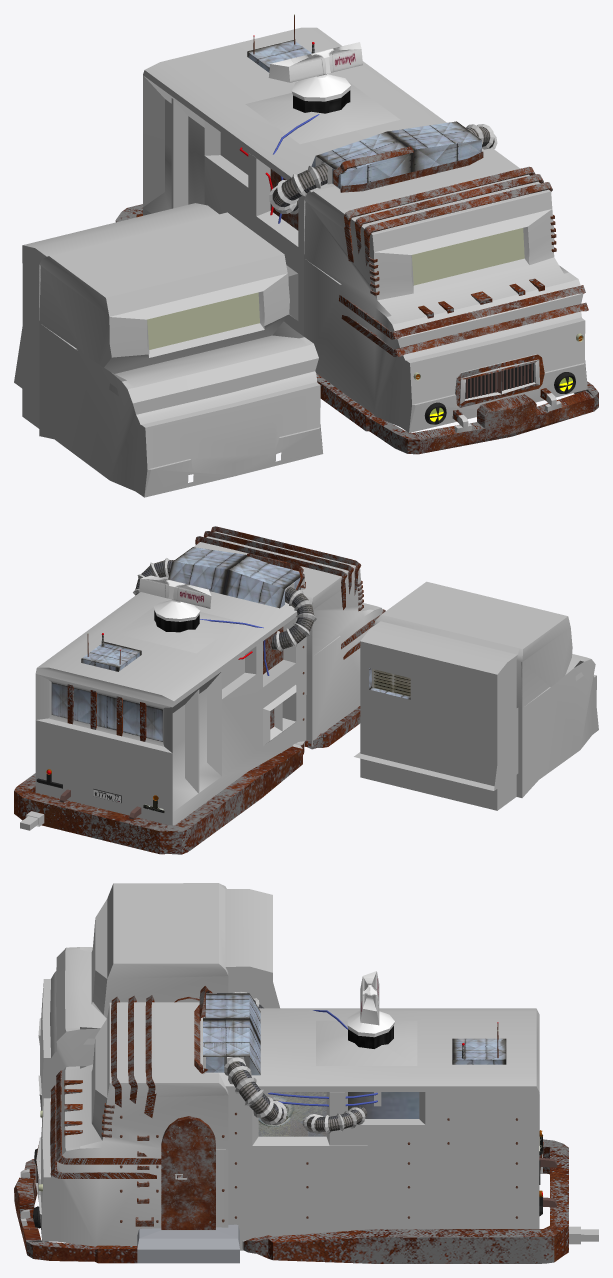
File: car.fbx
3 renders of one model, top to bottom at view 1: azimuth 30°, elevation 25°; view 2: azimuth 150°, elevation 25°; view 3: azimuth 270°, elevation 25°, orthographic. The views are drawn at different scales.
Parts seen in each view (by area): view 1: Car, Car.005, Circle.003; view 2: Car, Car.005, Circle.003; view 3: Car, Car.005, Door, Circle.003.
Boxes of the visible parts, box(x1,y1,x2,y2) form: Car: box(115, 14, 598, 454); Car.005: box(14, 203, 323, 497); Circle.003: box(268, 42, 362, 82); Car: box(14, 526, 385, 854); Car.005: box(354, 581, 598, 810); Circle.003: box(139, 575, 211, 608); Car: box(14, 986, 598, 1263); Car.005: box(38, 883, 279, 1121); Door: box(161, 1116, 215, 1229); Circle.003: box(360, 971, 379, 1025).
Bounding box in the file's own units: 663 × 322 × 747.
